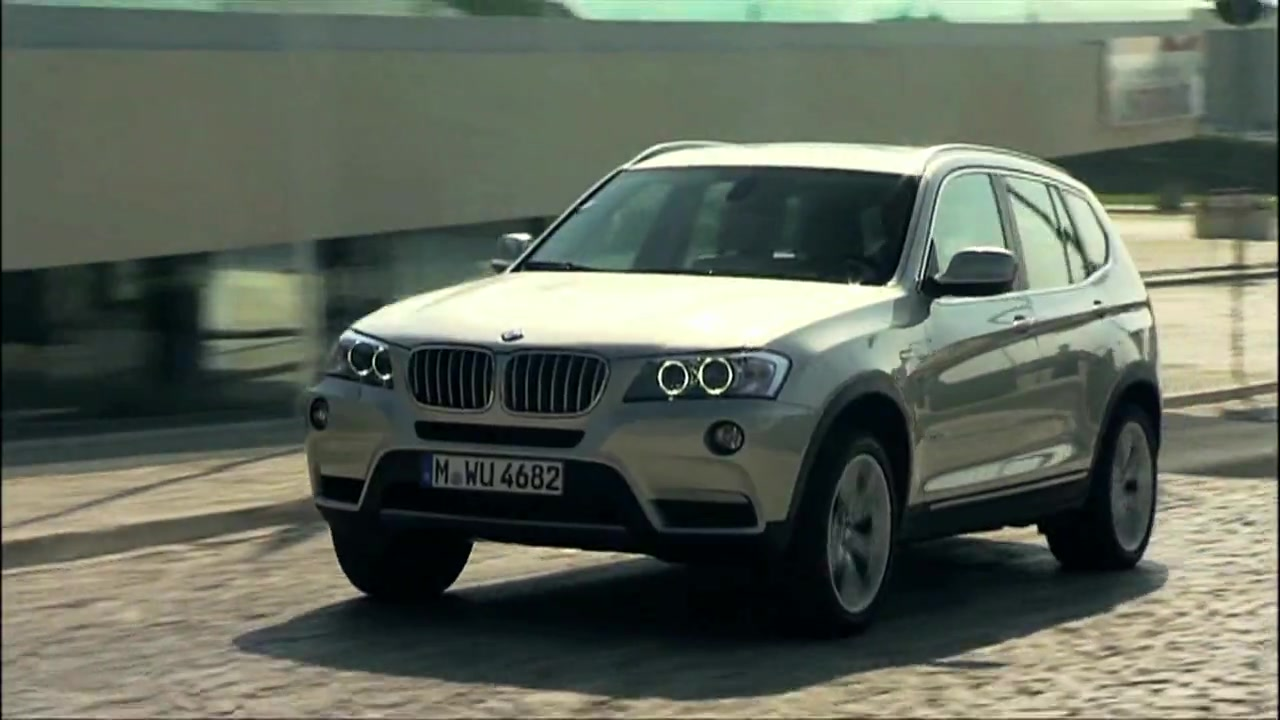car: (301, 135, 1167, 628)
